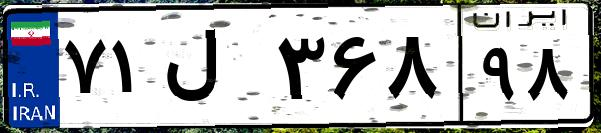1: (110, 28, 158, 98)
3: (270, 28, 330, 110)
6: (330, 28, 385, 110)
7: (57, 26, 110, 100)
8: (385, 28, 445, 110), (525, 38, 570, 115)
9: (475, 38, 525, 113)
ل: (158, 20, 270, 120)
